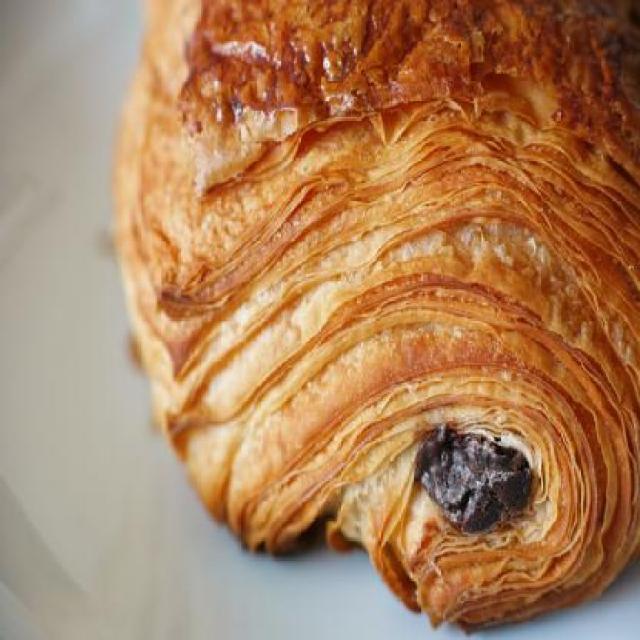Croissant: (122, 21, 640, 640)
